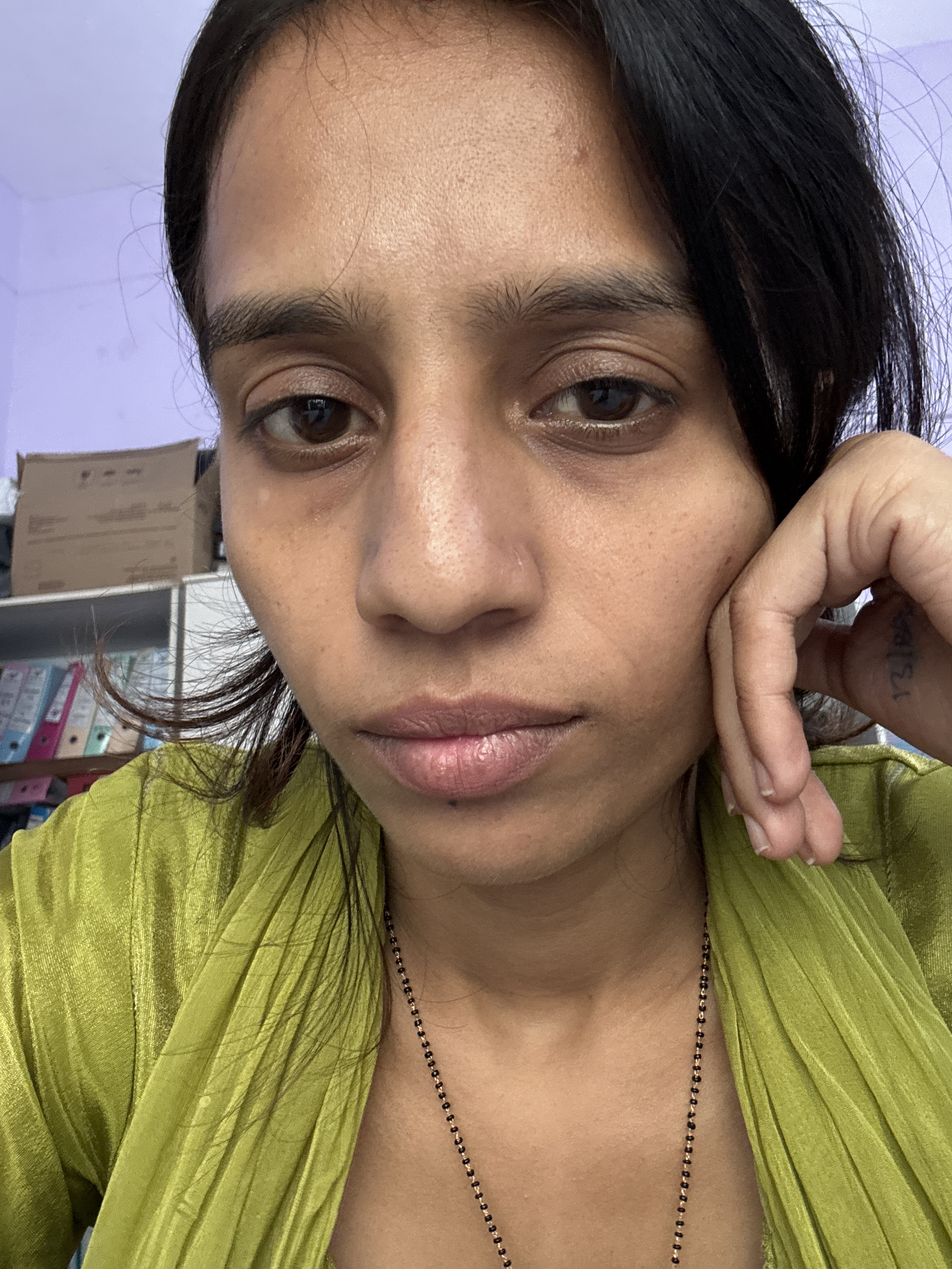open_comedone: (403, 447, 474, 603), (384, 507, 403, 599), (473, 511, 494, 591)
papule: (571, 149, 591, 166)
